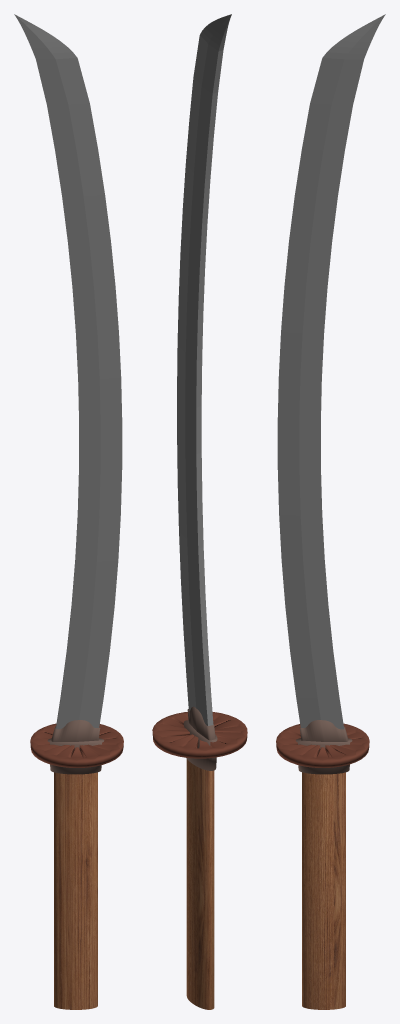
File: Katana.fbx
The picture shows the model from 3 angles, left to right: view 1: azimuth 90°, elevation 25°; view 2: azimuth 210°, elevation 25°; view 3: azimuth 270°, elevation 25°; orthographic projection.
Visible parts, largest first — view 1: blade, Cylinder.001, Guard, Ferrule, Cylinder; view 2: blade, Cylinder.001, Guard, Cylinder, Ferrule; view 3: blade, Cylinder.001, Guard, Ferrule, Cylinder.
Part boxes in pixels (x1,y1,x2,y2): blade: (14,14,122,729); Cylinder.001: (54,772,97,1009); Guard: (30,723,123,767); Ferrule: (51,720,100,741); Cylinder: (47,738,104,774); blade: (177,14,231,725); Cylinder.001: (186,759,214,1009); Guard: (152,711,247,758); Cylinder: (183,720,217,770); Ferrule: (187,706,215,740); blade: (277,14,385,729); Cylinder.001: (302,772,345,1009); Guard: (276,723,369,767); Ferrule: (299,720,348,741); Cylinder: (295,738,352,774).
Bounding box in the file's own units: 21.69 × 254 × 25.47.
